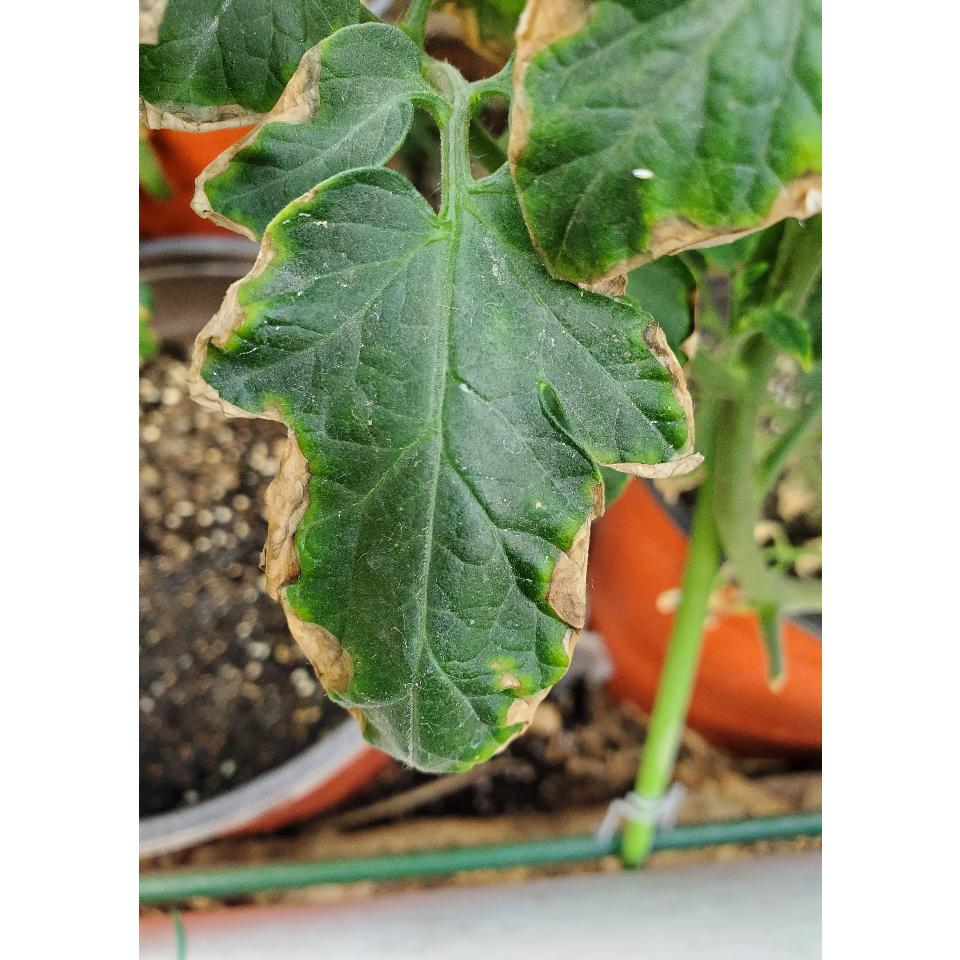tomato_bacterial_blight: (184, 148, 721, 780), (501, 0, 821, 304), (183, 10, 436, 250)
